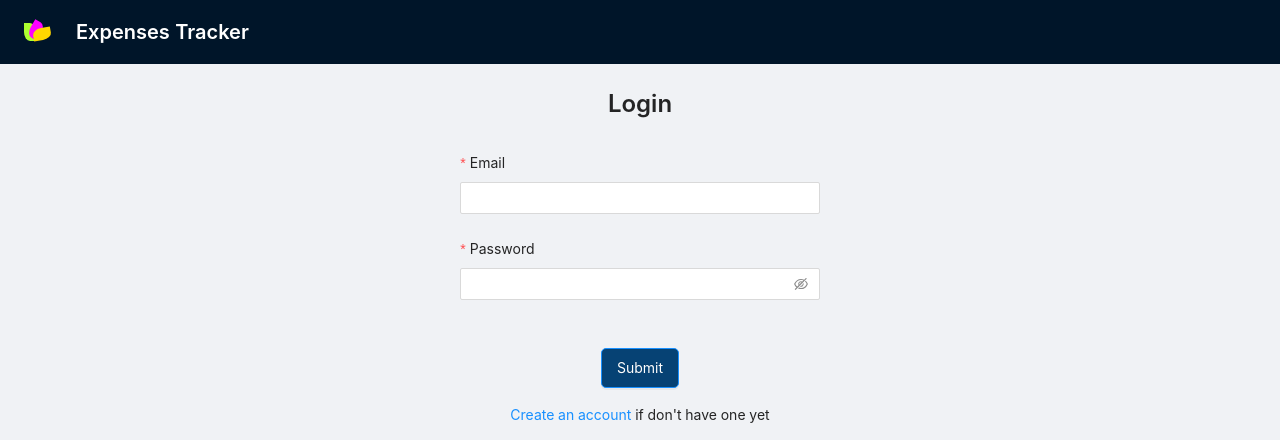
Test: Login page › should fail to submit login form when password is not keyed in
Type "abc@email.com" into the field labelled "Email" at point(640, 198), box left=460, top=182, right=819, bottom=214
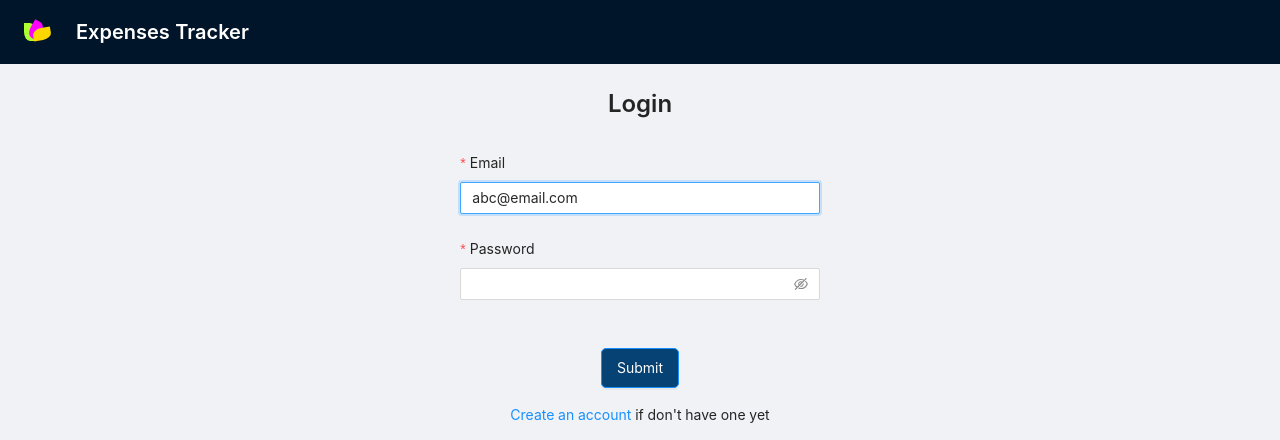
Click the button "Submit" at point(640, 368), box left=601, top=348, right=679, bottom=388
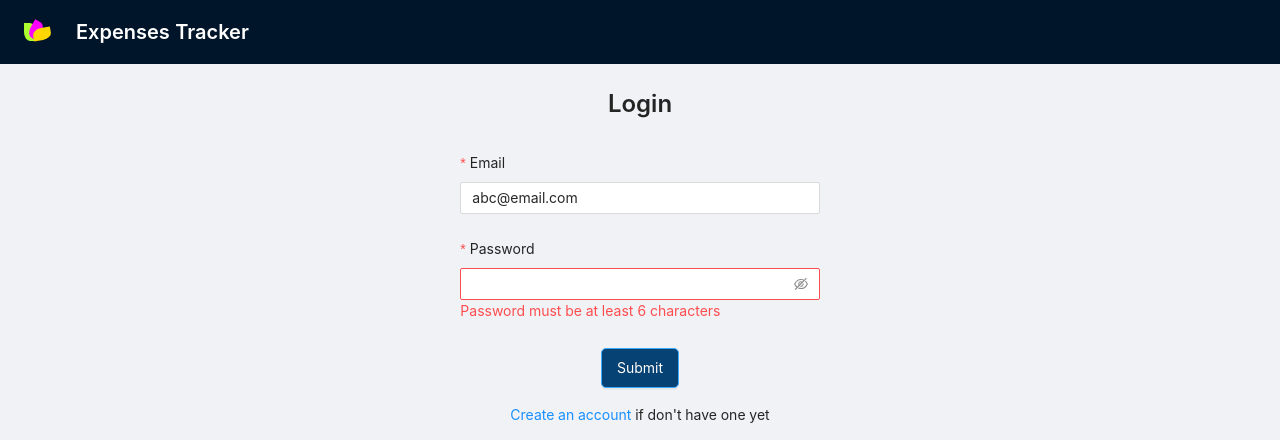
Expected: the message "Password must be at least 6 characters" is shown, left=460, top=302, right=720, bottom=319
